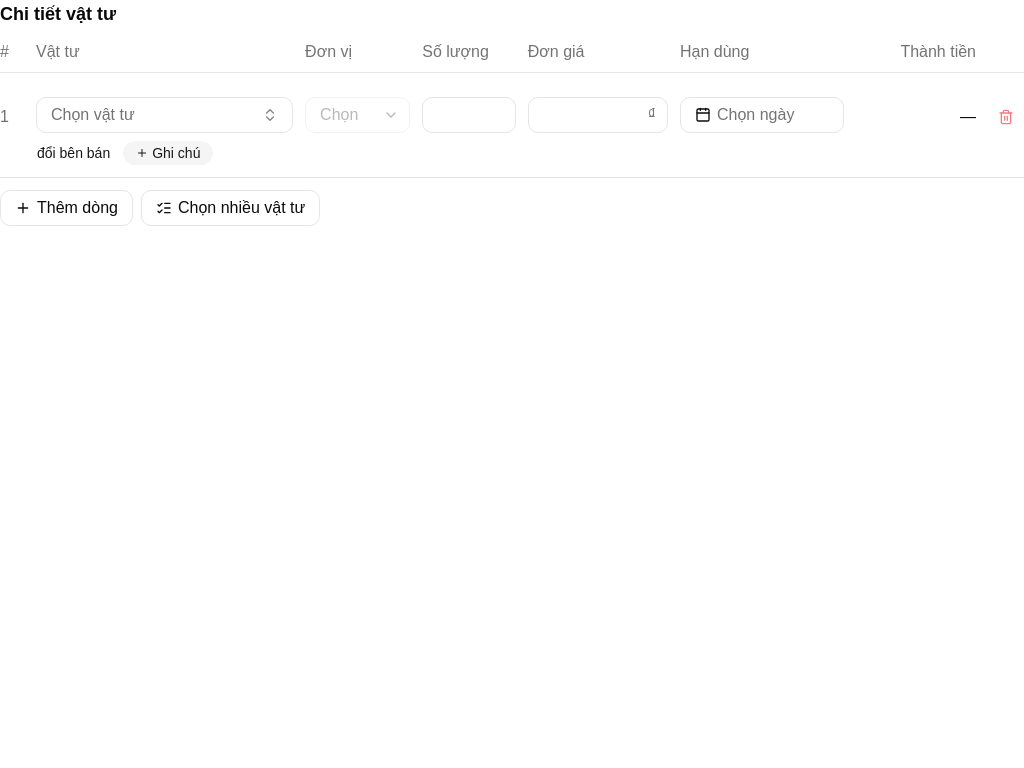
Test: ImportFormItemsField › đầu phiếu có bên bán → ô vật tư chia nhóm "Hàng thường mua của …" rồi "Vật tư khác trong kho"
The image size is (1024, 768).
Step 1. Click the dropdown named "Vật tư dòng 1" → (165, 115), box [36,97,293,133]
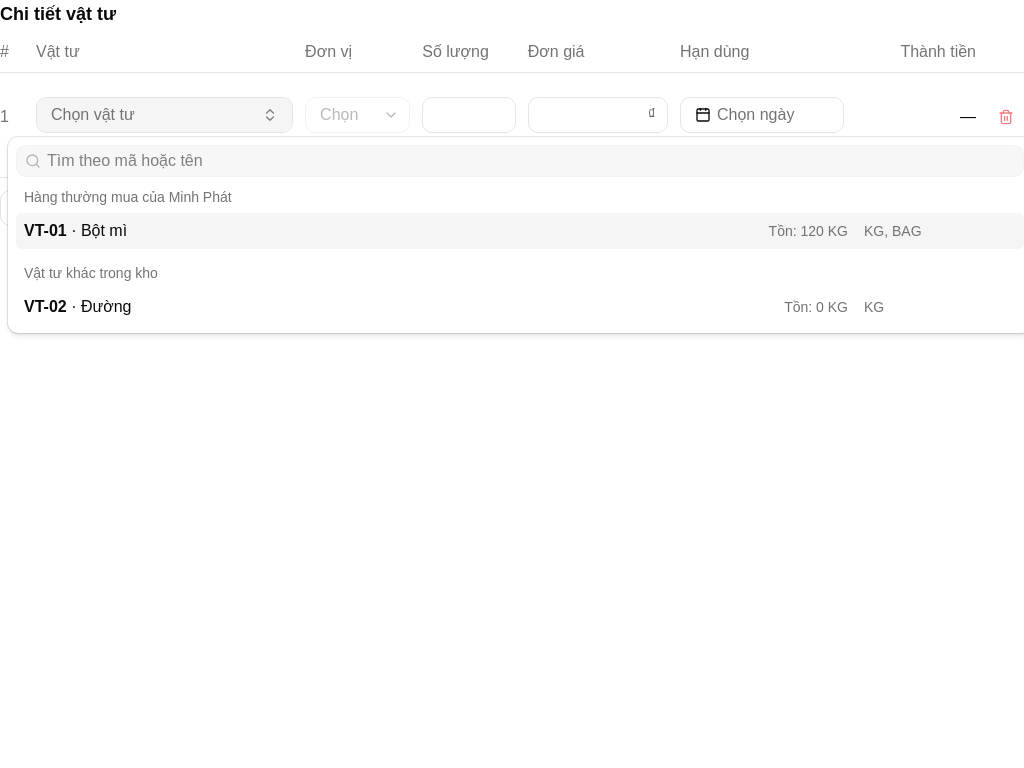
Check: the option "VT-01 · Bột mì Tồn: 120 KG KG, BAG" is shown, box [16,213,1023,249]
Check: the option "VT-02 · Đường Tồn: 0 KG KG" is shown, box [24,298,884,315]
